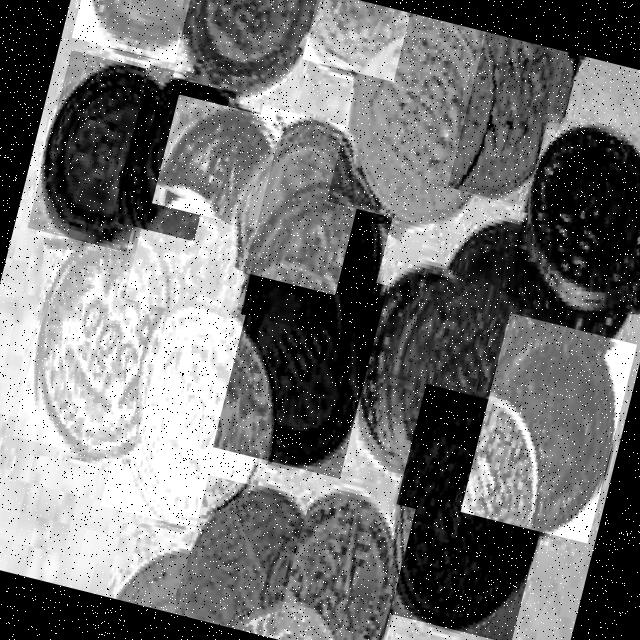niaari fukk: (391, 402, 544, 626), (491, 324, 615, 530), (526, 126, 640, 312), (269, 491, 394, 640), (177, 489, 302, 627)
nient fukk: (124, 305, 262, 525), (37, 241, 167, 459), (244, 264, 360, 465), (43, 65, 165, 244), (254, 183, 381, 340), (237, 119, 358, 272), (127, 74, 228, 229), (140, 195, 244, 318), (157, 111, 274, 220), (185, 0, 317, 93), (90, 0, 185, 55)
teemeer: (352, 18, 486, 222), (459, 32, 572, 194), (310, 0, 407, 71)
